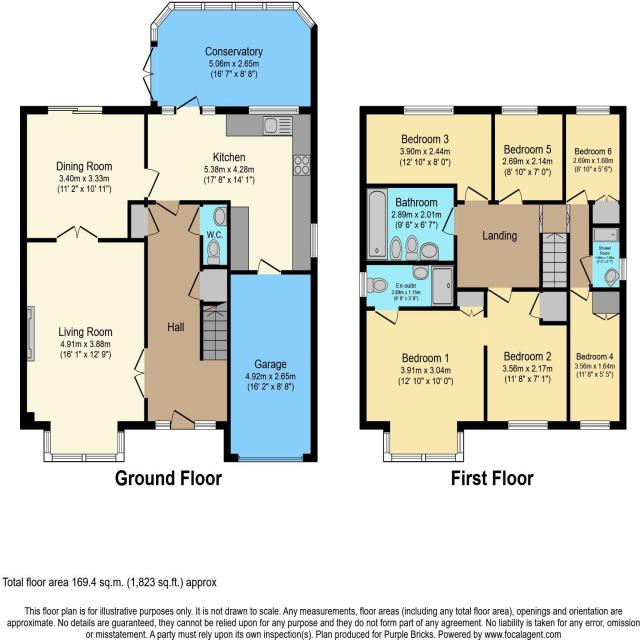DOOR: (440, 204, 458, 236), (373, 306, 400, 327), (496, 186, 525, 205), (486, 286, 514, 305), (464, 184, 490, 204), (256, 256, 283, 275), (145, 205, 161, 237), (155, 200, 181, 218), (145, 168, 160, 198), (564, 188, 589, 205), (176, 95, 201, 110), (569, 287, 590, 301)
DOUBLE DOOR: (131, 345, 149, 400), (54, 225, 99, 243)
ROOM: (359, 288, 571, 463), (144, 94, 318, 275), (20, 224, 149, 462), (20, 106, 160, 243), (359, 105, 495, 204), (566, 286, 627, 430), (491, 105, 566, 204), (562, 106, 626, 205)
SLIDING DOOR: (46, 105, 104, 115)
WINDOW: (247, 105, 300, 116), (295, 3, 315, 29), (403, 105, 455, 115), (506, 419, 549, 430), (152, 6, 171, 27), (575, 105, 611, 116), (500, 105, 539, 115), (52, 453, 84, 463), (85, 453, 116, 463), (235, 0, 263, 11), (578, 420, 611, 429), (424, 453, 457, 462), (310, 222, 318, 259), (204, 1, 232, 11), (389, 453, 423, 461), (173, 2, 202, 11), (265, 2, 294, 11), (194, 420, 216, 431), (43, 429, 52, 455), (159, 105, 177, 117), (618, 257, 627, 281), (117, 429, 125, 455), (383, 430, 391, 455), (456, 430, 464, 455), (153, 420, 171, 431), (201, 105, 217, 116), (150, 28, 158, 42)
